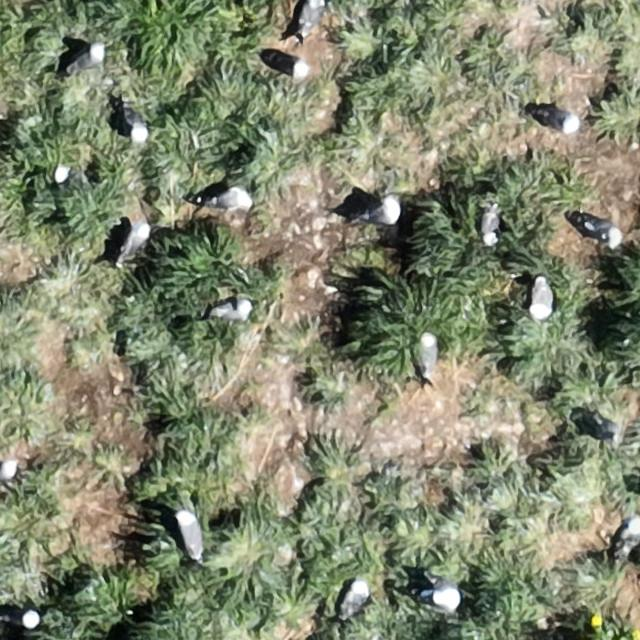umineko: (178, 512, 202, 558), (422, 584, 462, 611), (585, 220, 621, 245), (122, 224, 150, 256), (540, 112, 580, 134), (264, 54, 304, 76), (68, 48, 104, 72), (362, 200, 399, 223), (344, 581, 368, 616), (299, 2, 323, 36), (212, 188, 250, 209), (214, 299, 251, 320), (419, 332, 437, 373), (533, 282, 553, 318), (2, 609, 39, 628), (126, 113, 148, 143), (481, 207, 498, 244), (53, 165, 73, 185), (0, 459, 16, 482)
